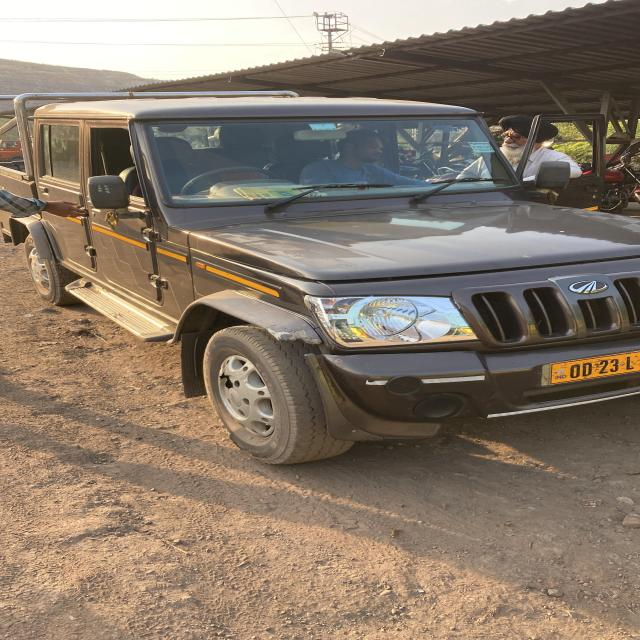light_vehicle: (22, 80, 640, 484)
